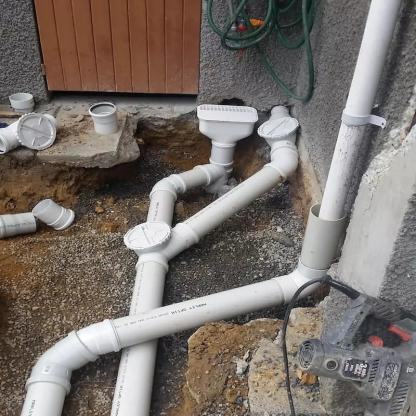PVC: (19, 1, 402, 416), (0, 198, 77, 243), (0, 113, 59, 153), (88, 104, 120, 135), (9, 94, 35, 112)
